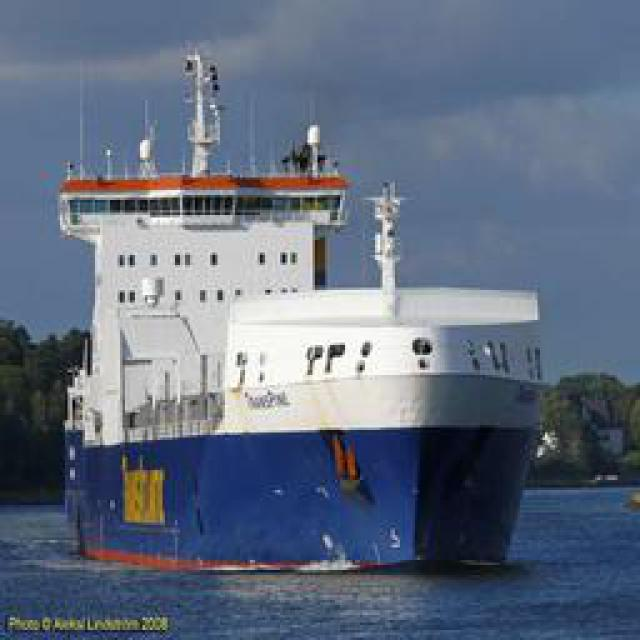Ship: (93, 199, 548, 569)
